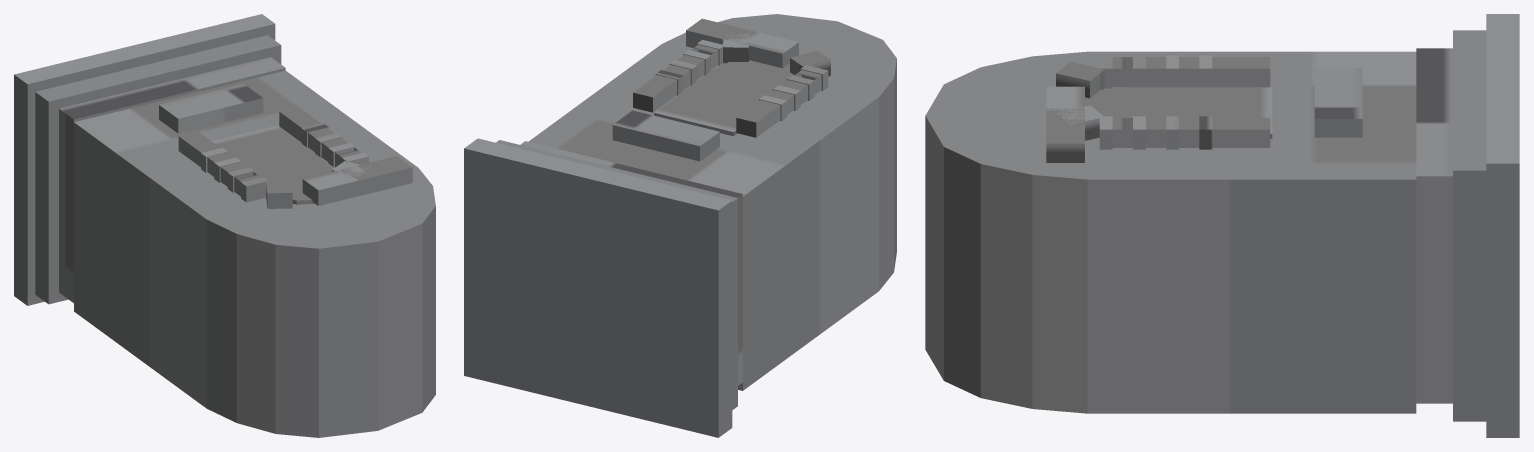
3 views of the same model, side by side, from view 1: azimuth 30°, elevation 25°; view 2: azimuth 150°, elevation 25°; view 3: azimuth 270°, elevation 25° (orthographic). The views are drawn at different scales.
Bounding box in the file's own units: 0.96 × 0.82 × 1.61.
